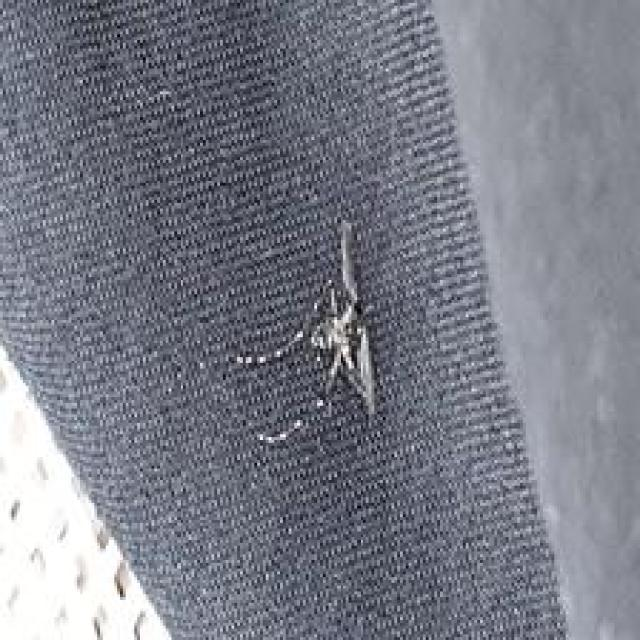Aedes albopictus: (220, 217, 383, 446)
